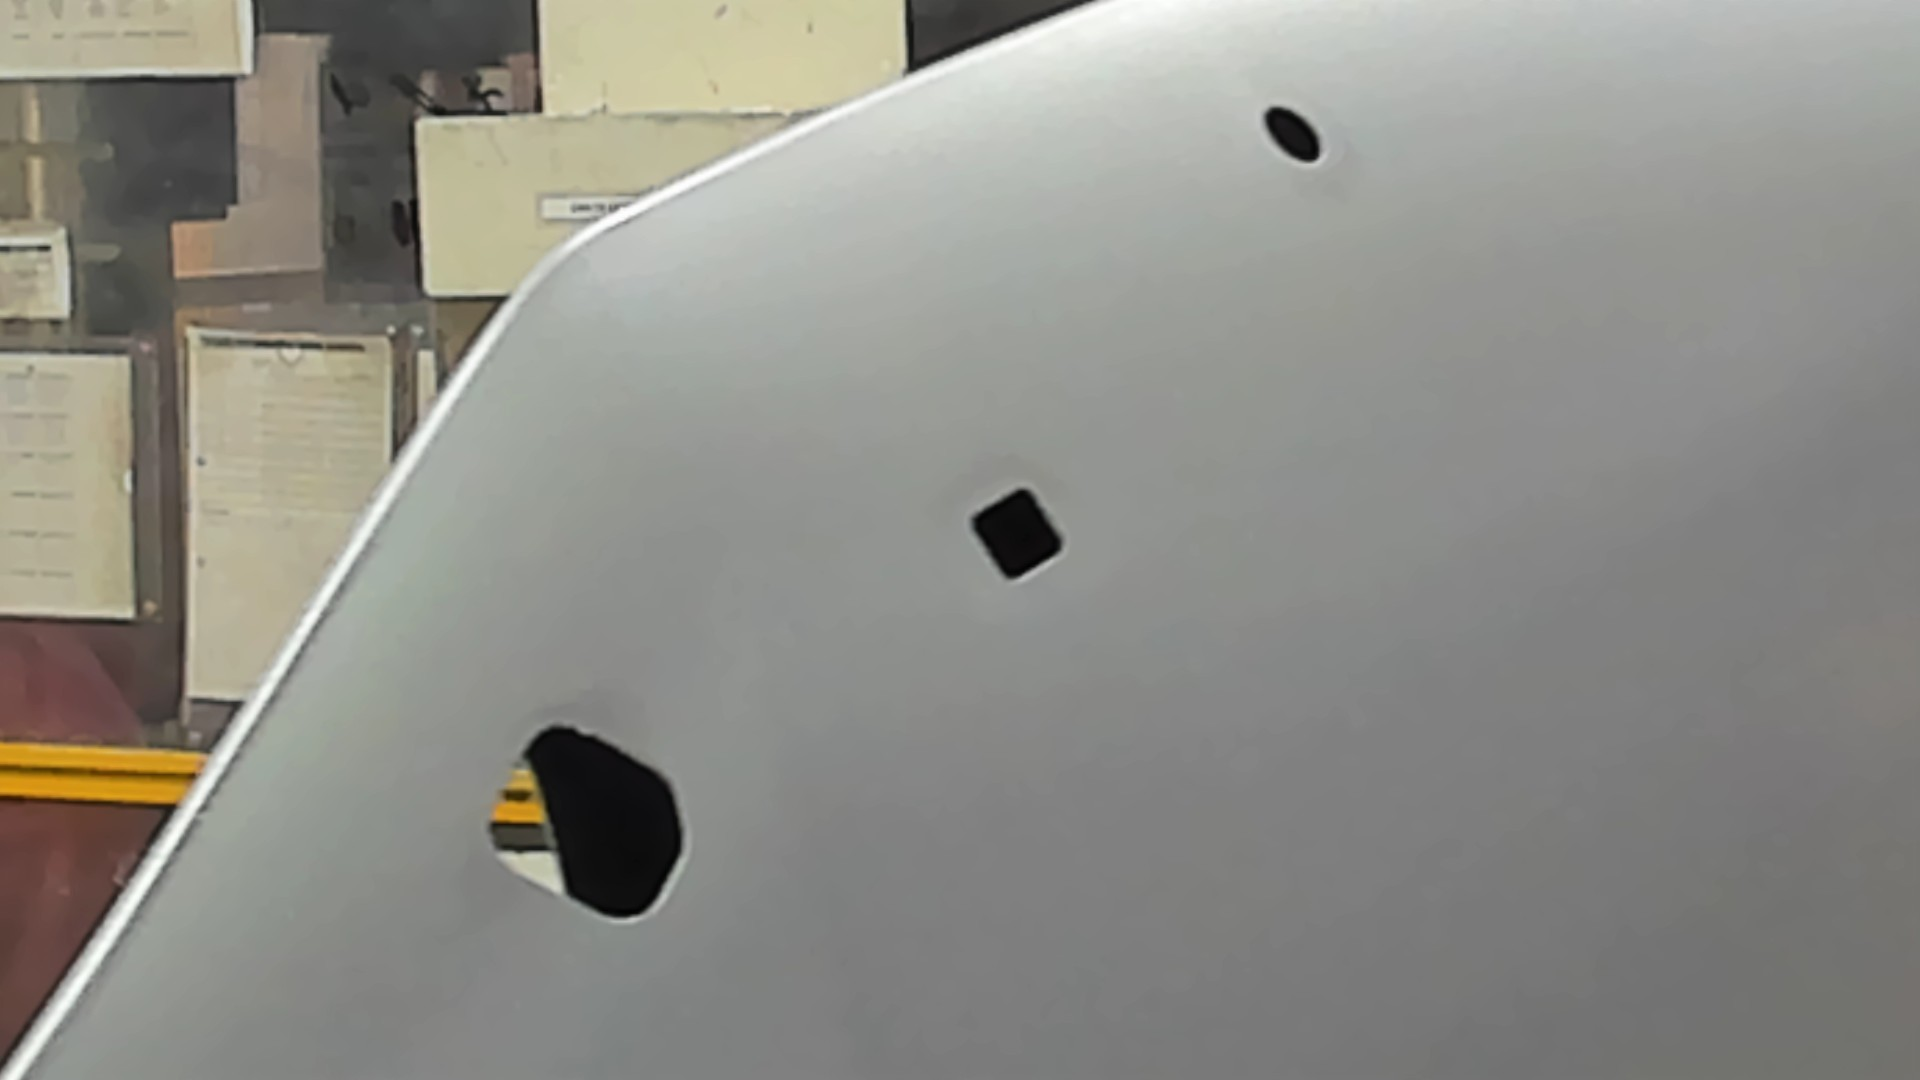chico: (1263, 102, 1324, 166)
grande: (483, 721, 690, 927)
mediano: (968, 484, 1067, 585)
